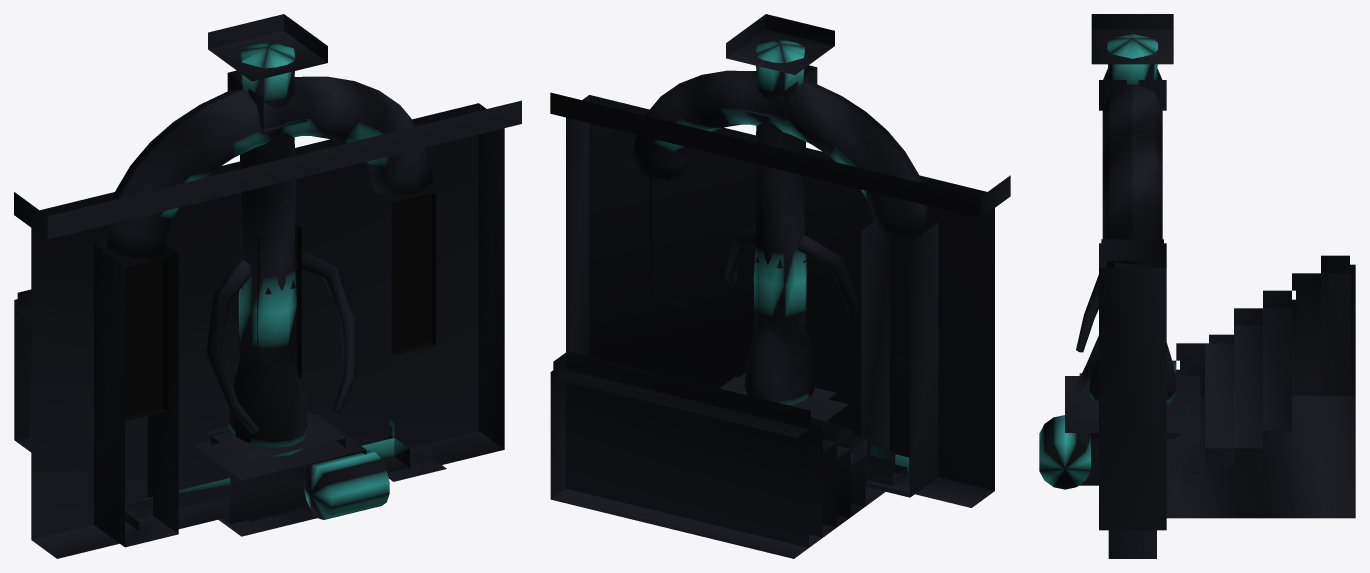
The model's file is city.glb.
3 views of the same model, side by side, from view 1: azimuth 30°, elevation 25°; view 2: azimuth 150°, elevation 25°; view 3: azimuth 270°, elevation 25° (orthographic). The views are drawn at different scales.
Parts seen in each view (by area): view 1: city_wall, city_arch, city_column, city_statue, city_plinth, city_stairs, city_column_broken, city_block; view 2: city_wall, city_stairs, city_arch, city_column, city_statue, city_plinth; view 3: city_stairs, city_arch, city_column, city_plinth, city_column_broken, city_wall, city_statue, city_block.
Part boxes in pixels (x1,y1,x2,y2): city_wall: [14, 100, 521, 558]; city_arch: [94, 70, 446, 547]; city_column: [208, 14, 327, 521]; city_statue: [206, 204, 355, 511]; city_plinth: [193, 409, 366, 536]; city_stairs: [14, 289, 409, 531]; city_column_broken: [241, 280, 389, 519]; city_block: [202, 430, 346, 524]; city_wall: [550, 92, 1010, 507]; city_stairs: [550, 351, 909, 558]; city_arch: [631, 65, 938, 497]; city_column: [726, 14, 834, 351]; city_statue: [724, 224, 858, 405]; city_plinth: [719, 373, 848, 420]; city_stairs: [1166, 255, 1355, 518]; city_arch: [1099, 68, 1166, 530]; city_column: [1091, 14, 1176, 474]; city_plinth: [1065, 373, 1200, 485]; city_column_broken: [1039, 415, 1090, 489]; city_wall: [1101, 239, 1163, 558]; city_statue: [1076, 274, 1180, 436]; city_block: [1094, 438, 1171, 483].
Size of the model in its own units: 10.6 by 9.74 by 6.56.
